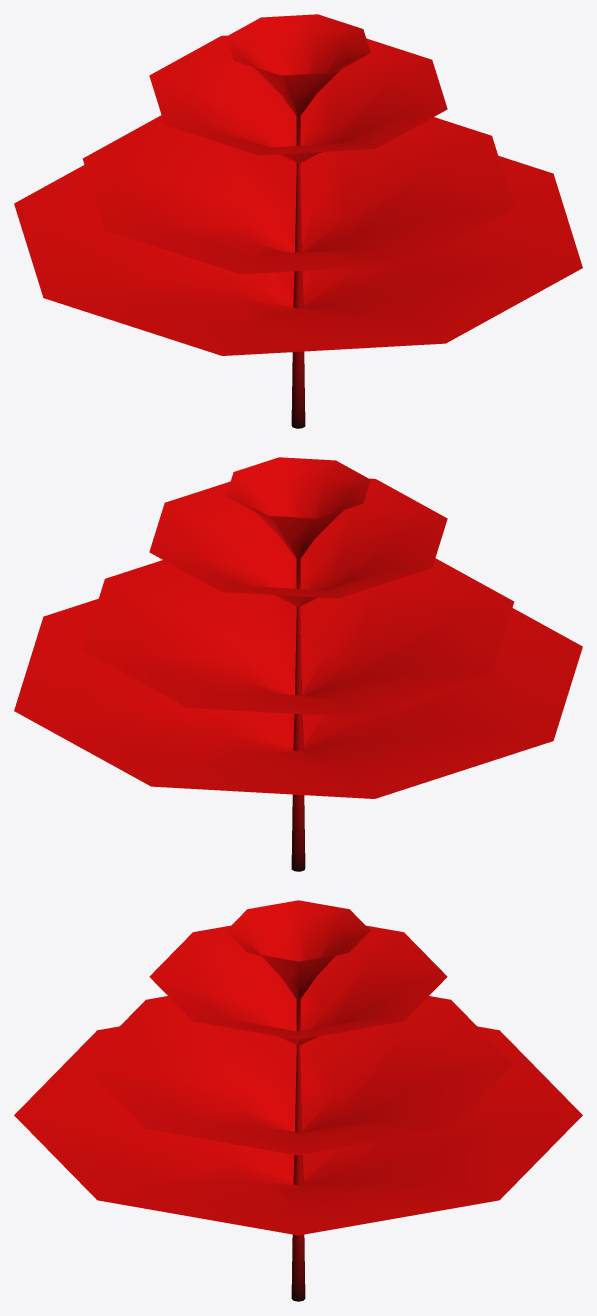
File: TabularCoralQuad_Geo.fbx
3 renders of one model, top to bottom at view 1: azimuth 30°, elevation 25°; view 2: azimuth 150°, elevation 25°; view 3: azimuth 270°, elevation 25°, orthographic. The views are drawn at different scales.
Parts seen in each view (by area): view 1: TabularCoralQuad_Geo; view 2: TabularCoralQuad_Geo; view 3: TabularCoralQuad_Geo.
Boxes of the visible parts, box(x1,y1,x2,y2) form: TabularCoralQuad_Geo: box(14, 14, 582, 428); TabularCoralQuad_Geo: box(14, 457, 582, 871); TabularCoralQuad_Geo: box(14, 900, 582, 1301).
Size of the model in its own units: 4.13 by 2.95 by 4.13.
